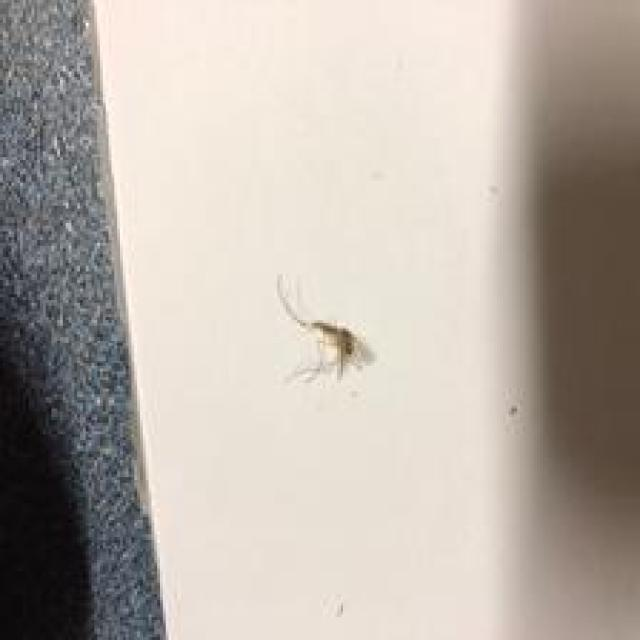Culex: (274, 273, 374, 384)
